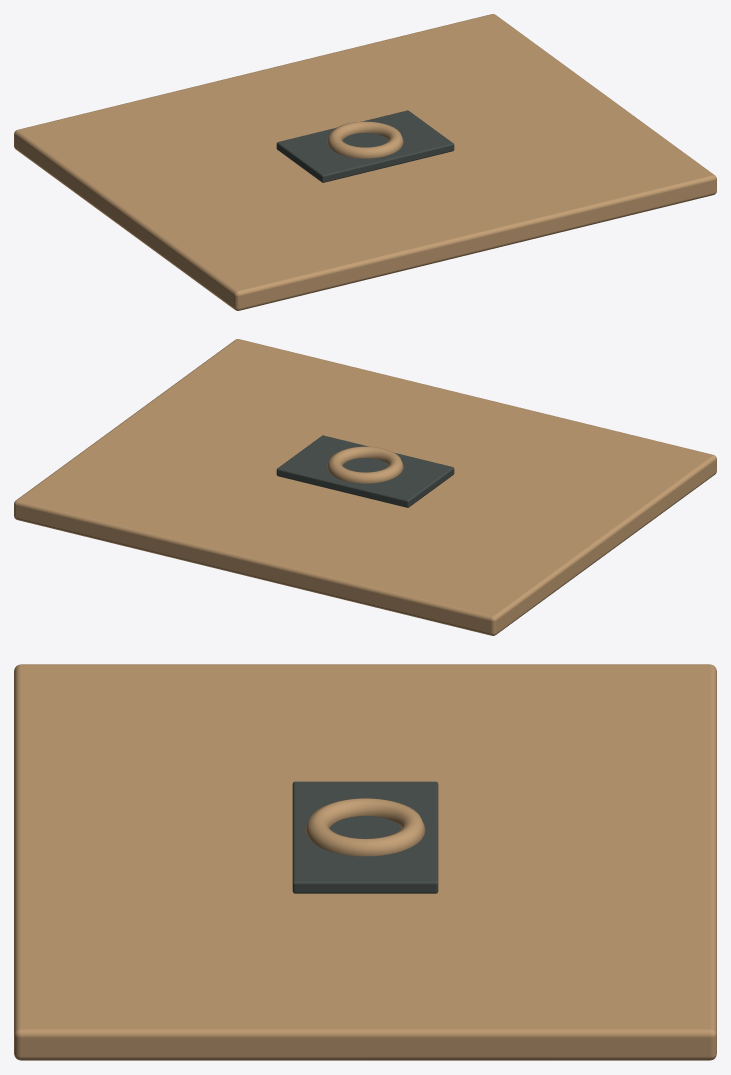
File: beekeeping-and-honey-farm-inner-cover-5d4325d1__30701.glb
The picture shows the model from 3 angles, top to bottom: view 1: azimuth 30°, elevation 25°; view 2: azimuth 150°, elevation 25°; view 3: azimuth 270°, elevation 25°; orthographic projection. The views are drawn at different scales.
Visible parts, largest first — view 1: inner-cover; view 2: inner-cover; view 3: inner-cover.
Part boxes in pixels (box(x1,y1,x2,y2)): inner-cover: box(14, 14, 716, 310); inner-cover: box(14, 339, 716, 635); inner-cover: box(14, 664, 716, 1060).
Size of the model in its own units: 0.51 by 0.038 by 0.41.
